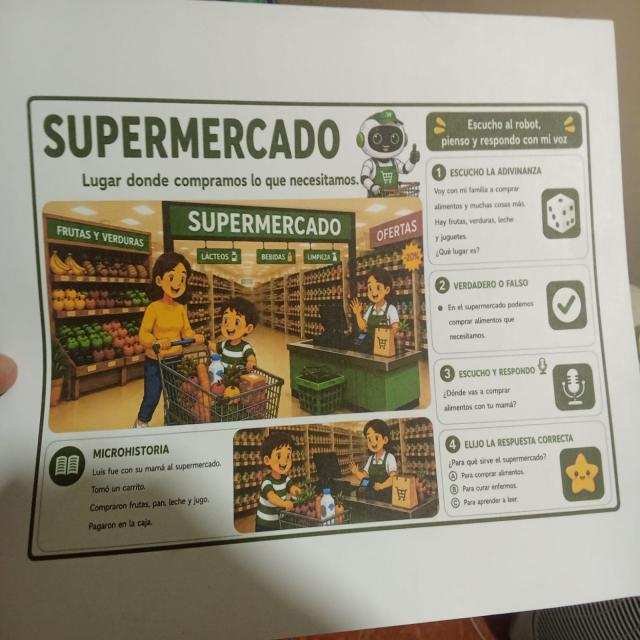supermercado: (22, 88, 624, 571)
